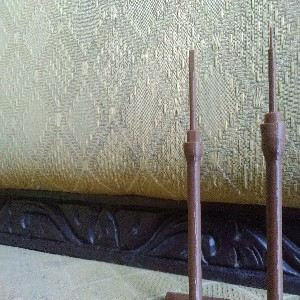obeng: (182, 50, 205, 300)
solder: (259, 25, 286, 300)
